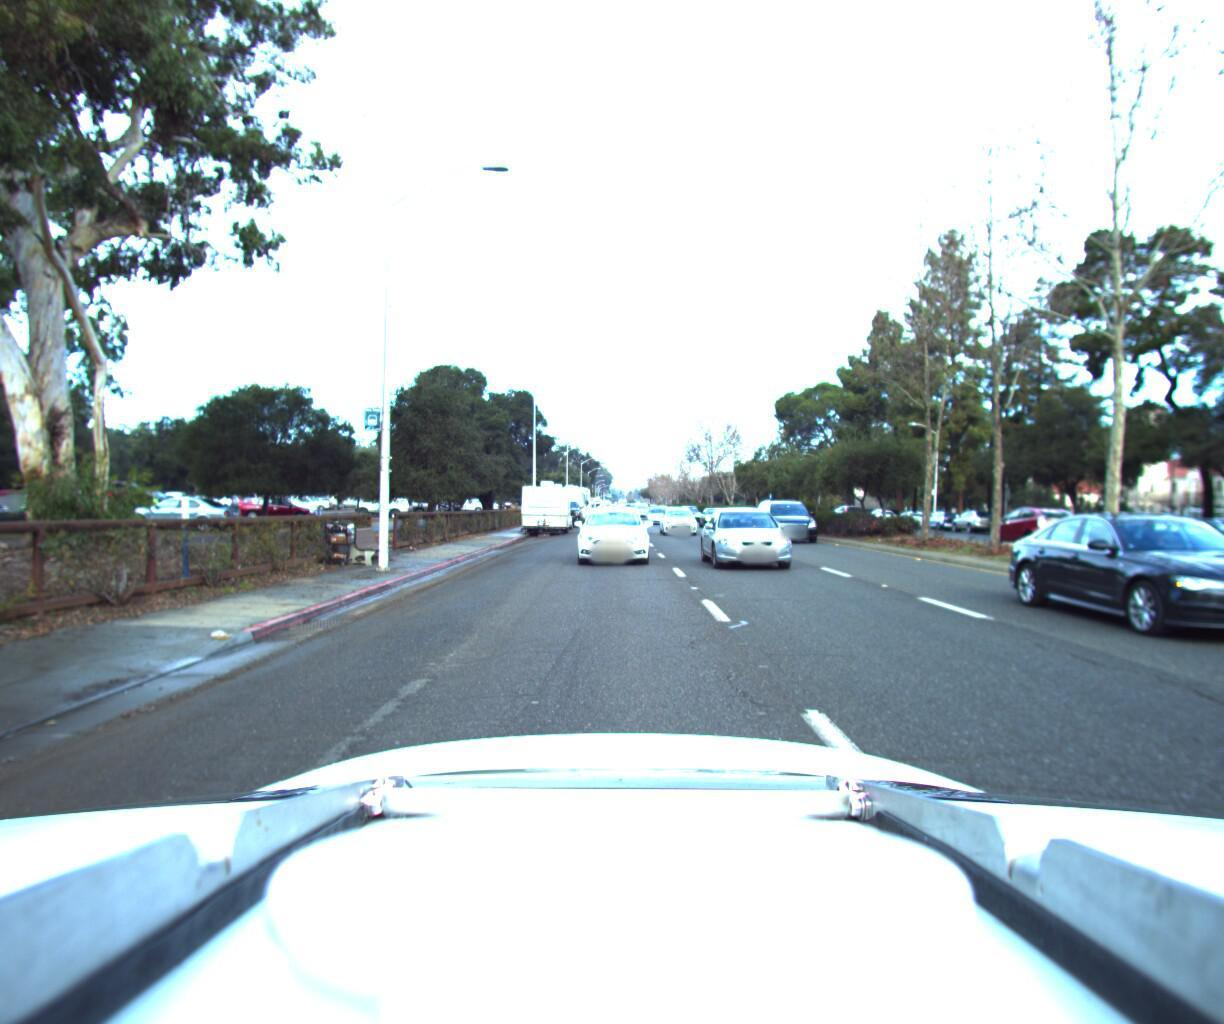car: (1040, 506, 1224, 677), (697, 499, 819, 576), (567, 500, 651, 564), (967, 500, 1062, 542), (759, 491, 840, 540), (1154, 511, 1224, 552), (1025, 508, 1097, 538), (947, 502, 1003, 530), (656, 497, 702, 530), (918, 504, 967, 526), (549, 493, 584, 523), (642, 502, 670, 522)
other_vehicle: (516, 474, 571, 531), (548, 478, 593, 520)
